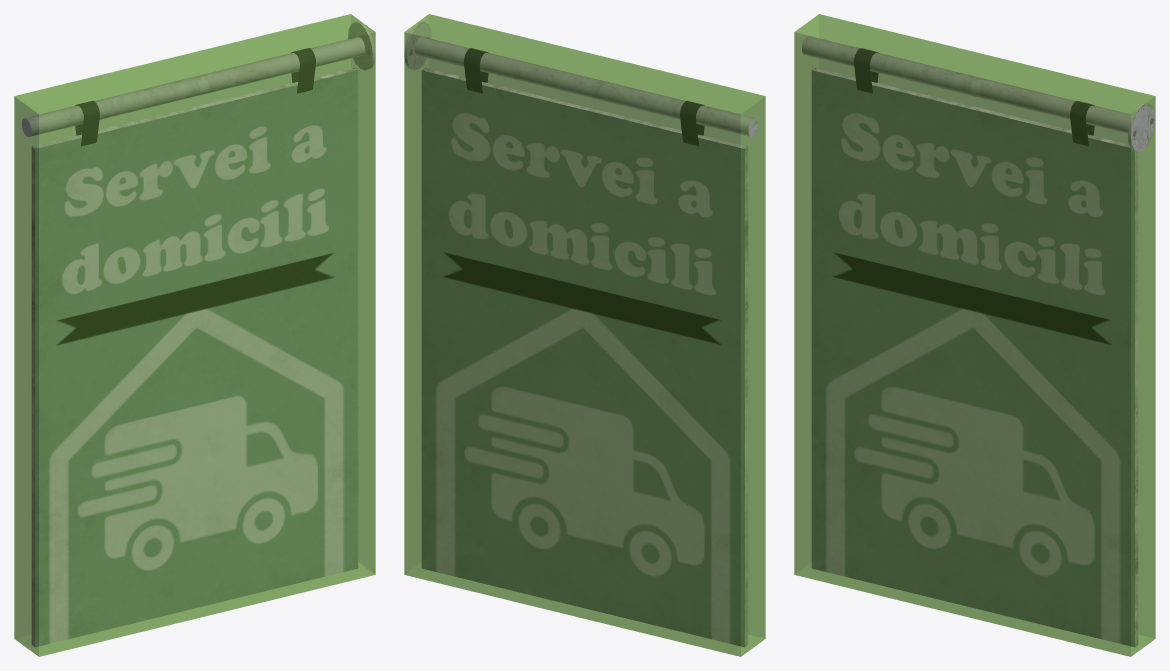
File: p_GeneralSignage_02_a.fbx
3 renders of one model, left to right at view 1: azimuth 30°, elevation 25°; view 2: azimuth 150°, elevation 25°; view 3: azimuth 330°, elevation 25°, orthographic.
Visible parts, largest first — view 1: p_GeneralSignage_02_a_col, p_GeneralSignage_02_a_LOD0; view 2: p_GeneralSignage_02_a_col, p_GeneralSignage_02_a_LOD0; view 3: p_GeneralSignage_02_a_col, p_GeneralSignage_02_a_LOD0.
Part boxes in pixels (x1=…): p_GeneralSignage_02_a_col: x1=14, y1=14, x2=375, y2=656; p_GeneralSignage_02_a_LOD0: x1=22, y1=21, x2=375, y2=647; p_GeneralSignage_02_a_col: x1=404, y1=14, x2=765, y2=656; p_GeneralSignage_02_a_LOD0: x1=404, y1=21, x2=757, y2=647; p_GeneralSignage_02_a_col: x1=794, y1=14, x2=1155, y2=656; p_GeneralSignage_02_a_LOD0: x1=802, y1=36, x2=1155, y2=647.
Size of what is drawn, in the model's own units: 42 by 64.68 by 5.37.
